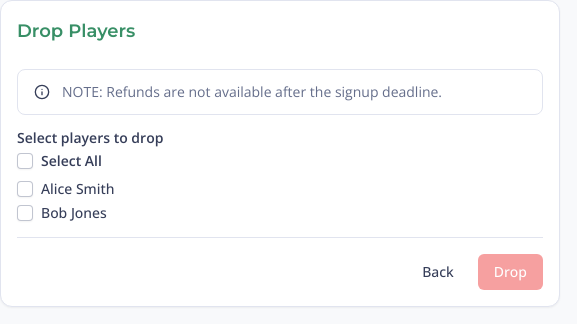
Drop button enabled after selecting a player
Click the checkbox named "Bob Jones" next to "Bob Jones": (25, 213) left=17, top=205, right=33, bottom=221
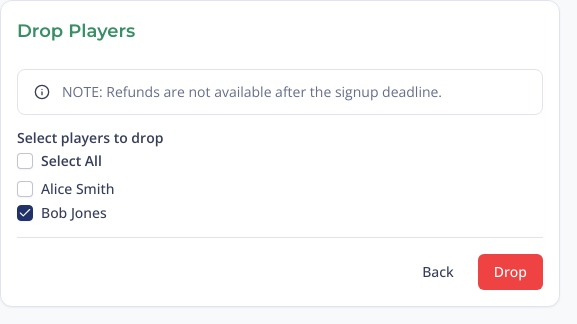
Expected: the button "Drop" is enabled, left=478, top=254, right=543, bottom=290
